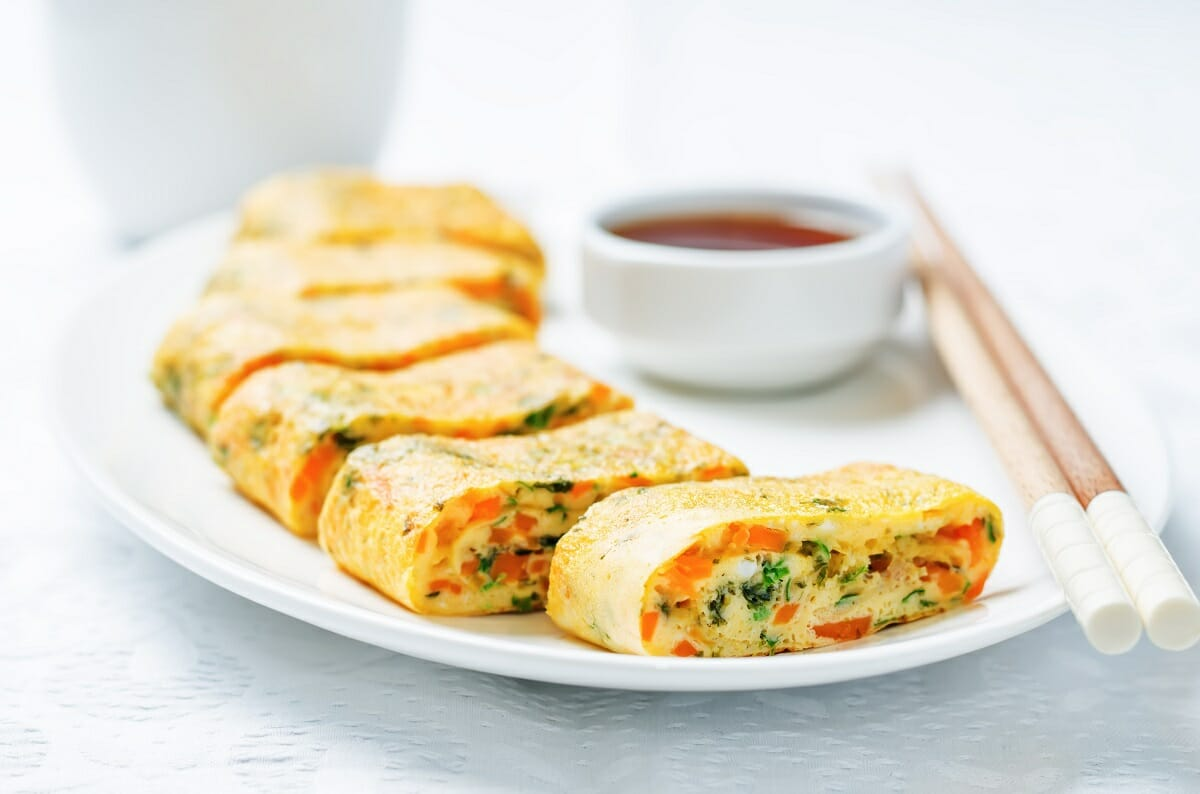gyelanmal-i: (144, 157, 1015, 667)
